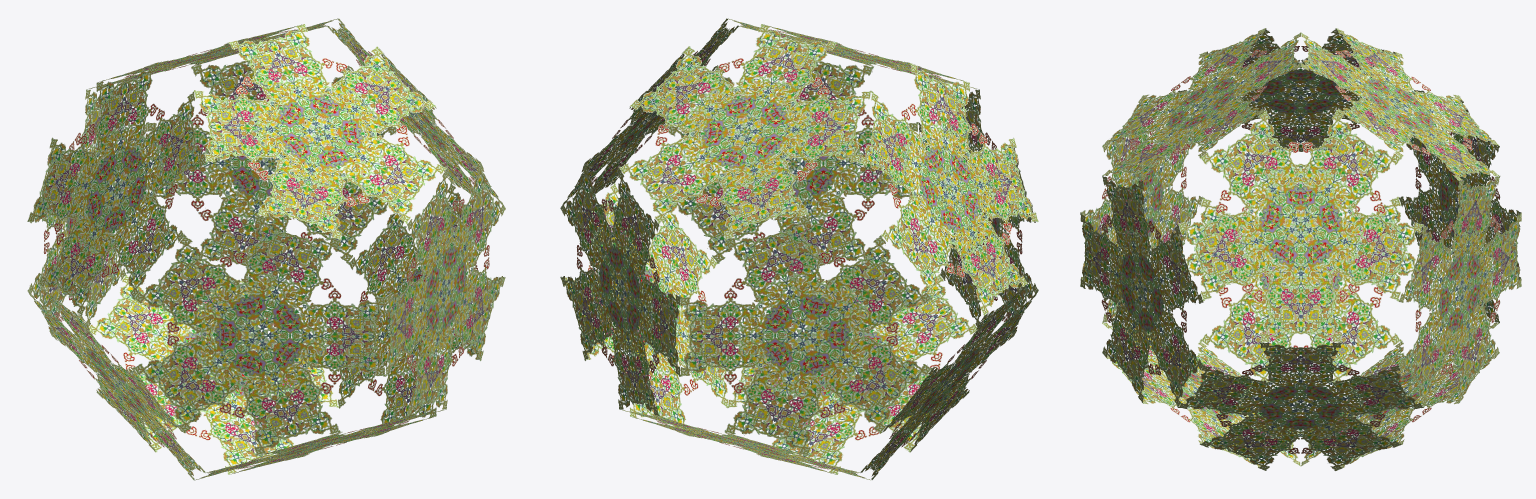
The model's file is Dodecahedron9.obj.
The picture shows the model from 3 angles, left to right: view 1: azimuth 30°, elevation 25°; view 2: azimuth 150°, elevation 25°; view 3: azimuth 270°, elevation 25°; orthographic projection. The views are drawn at different scales.
Size of the model in its own units: 2.62 by 2.62 by 2.62.
Materials: 1 (1 with a texture image).
